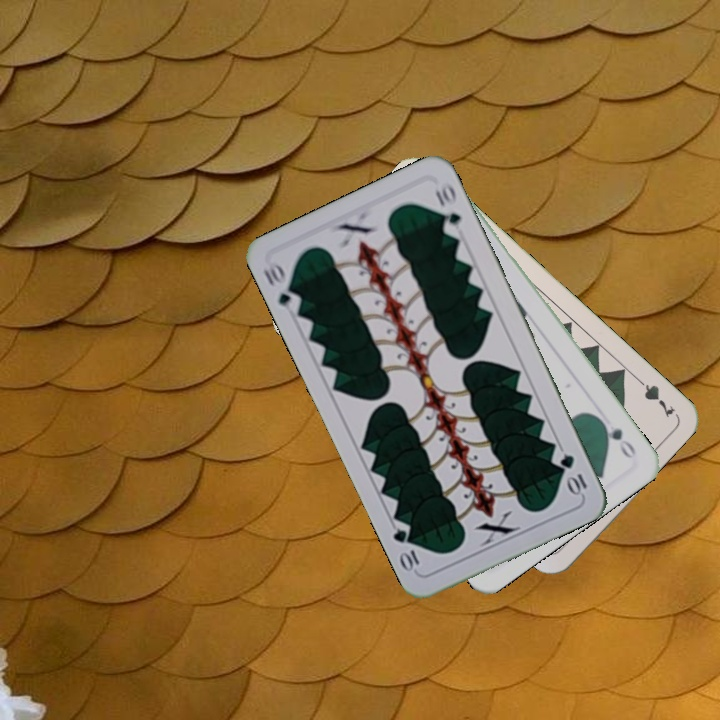G10: (258, 257, 304, 316), (556, 450, 590, 498)
G7: (630, 372, 678, 421)
GO: (594, 414, 639, 461)
